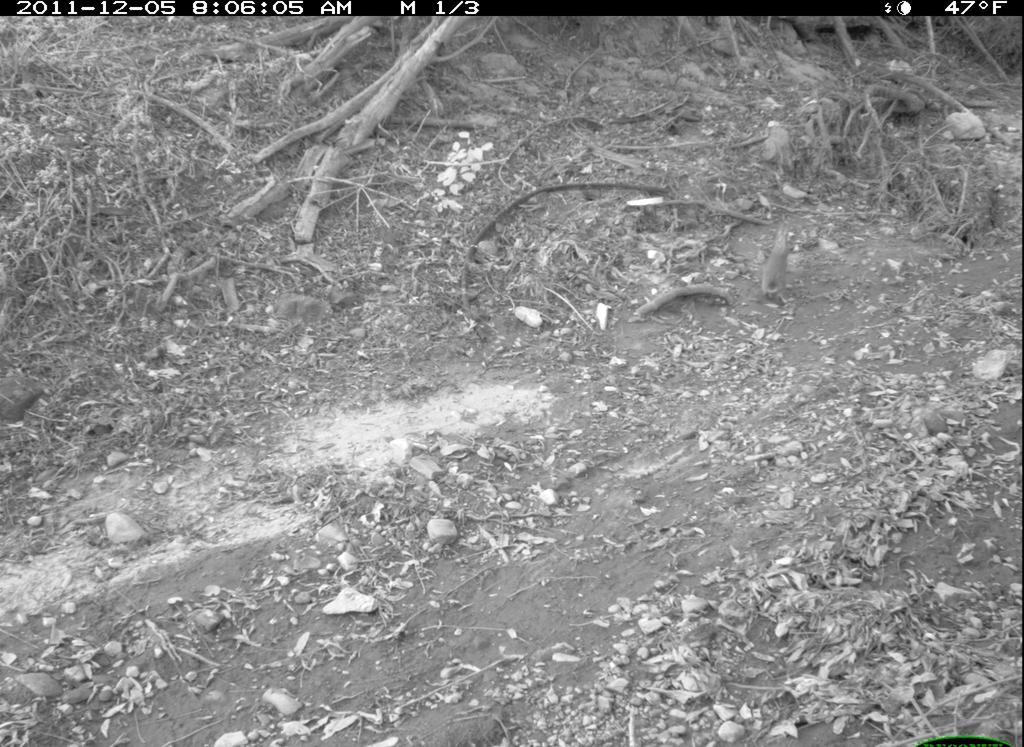rabbit: (753, 210, 803, 321)
